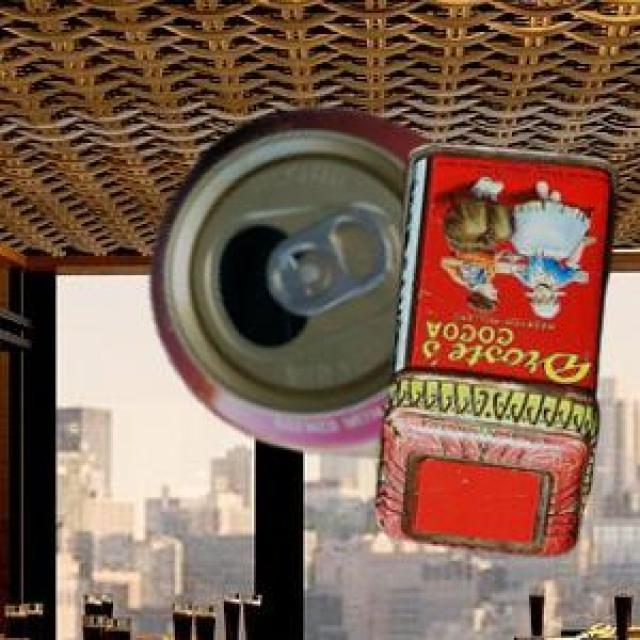Can: (372, 140, 615, 551), (148, 106, 426, 453)
